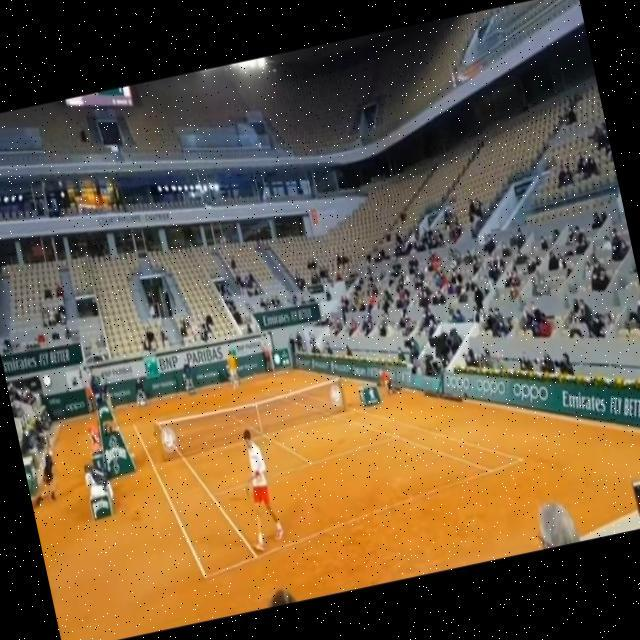court: (132, 342, 534, 587)
net: (150, 375, 351, 464)
player: (228, 424, 287, 553)
